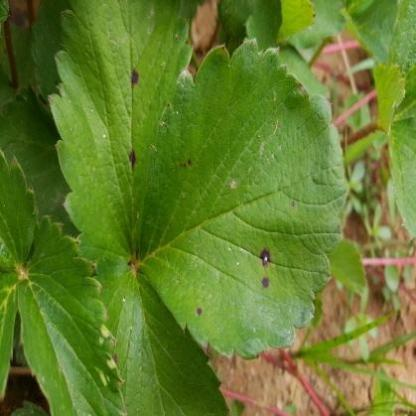Strawberry_Leaf_Spot: (137, 38, 348, 361), (46, 0, 195, 264)
